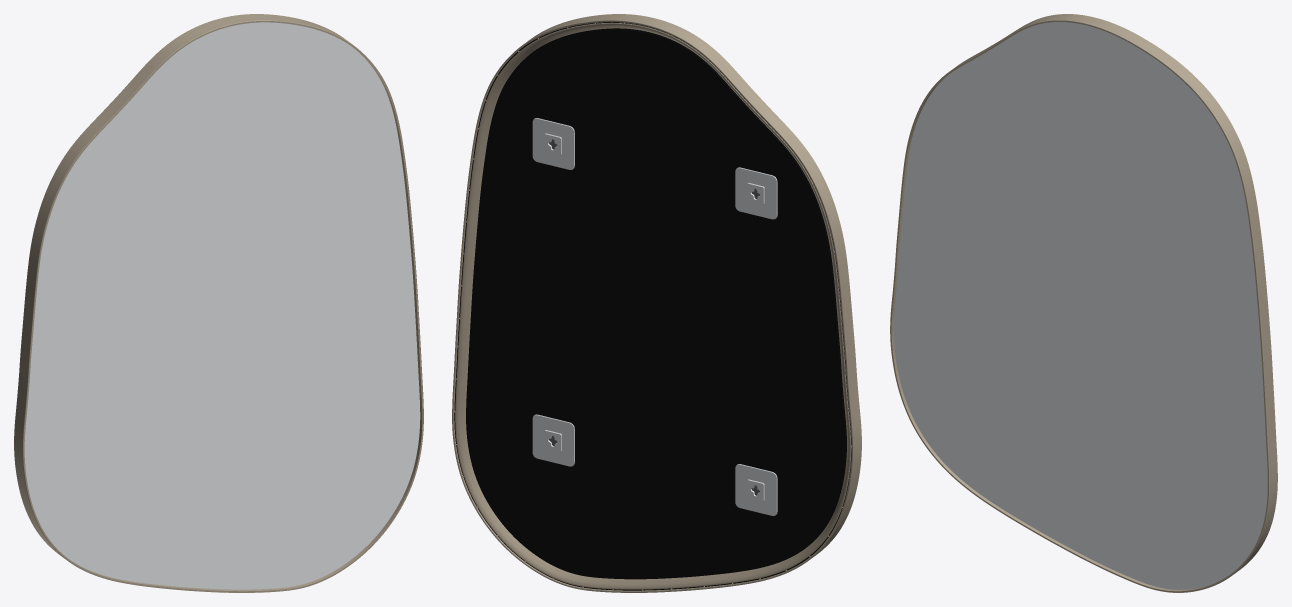
Rendered from brook-gold-large.glb.
3 renders of one model, left to right at view 1: azimuth 30°, elevation 25°; view 2: azimuth 150°, elevation 25°; view 3: azimuth 330°, elevation 25°, orthographic. The views are drawn at different scales.
Parts seen in each view (by area): view 1: BrookMirror; view 2: BrookMirror; view 3: BrookMirror.
Boxes of the visible parts, x1,y1,x2,y2 form: BrookMirror: (14, 14, 423, 592); BrookMirror: (452, 14, 861, 592); BrookMirror: (890, 14, 1277, 592).
Size of the model in its own units: 0.6485 by 0.8978 by 0.025.
6 materials, 1 textured.
